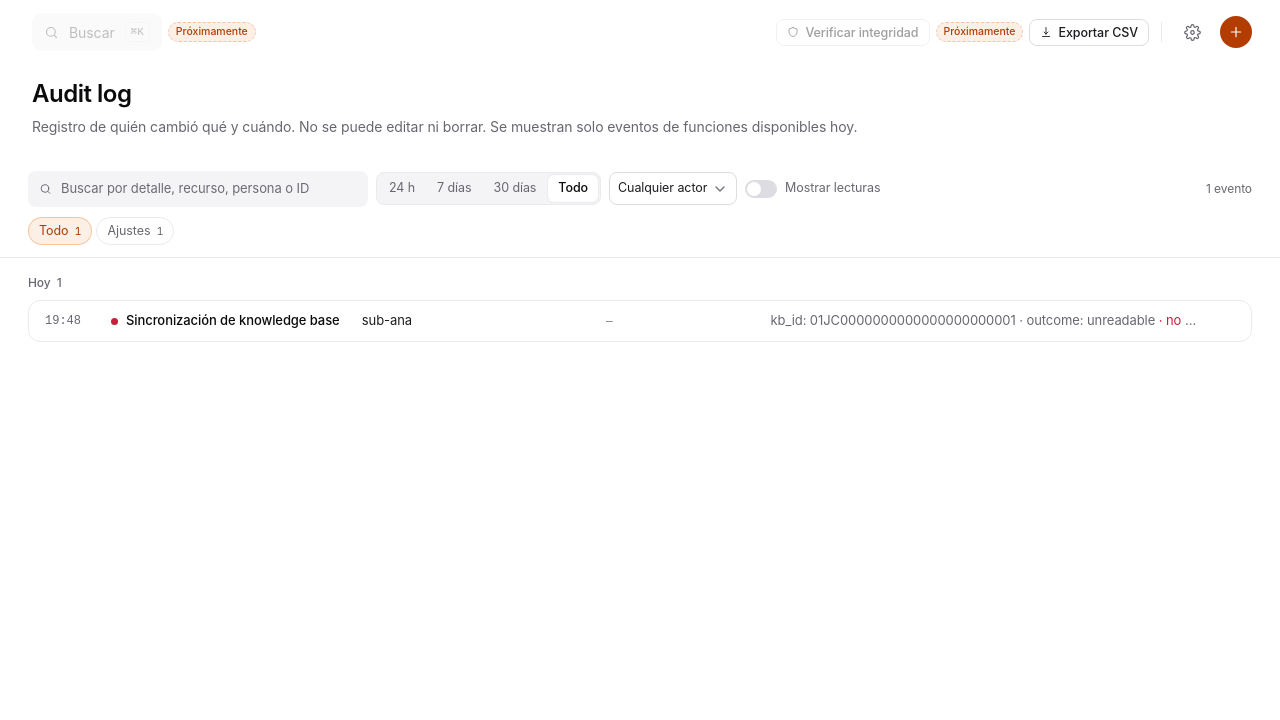
Test: AdminAuditPage › names a knowledge base synchronization that did not apply, why, and where to go
What coordinates should you click on to do the following:
click the text "Sincronización de knowledge base"
I would click on:
 (229, 321)
Its box is left=111, top=311, right=348, bottom=331.
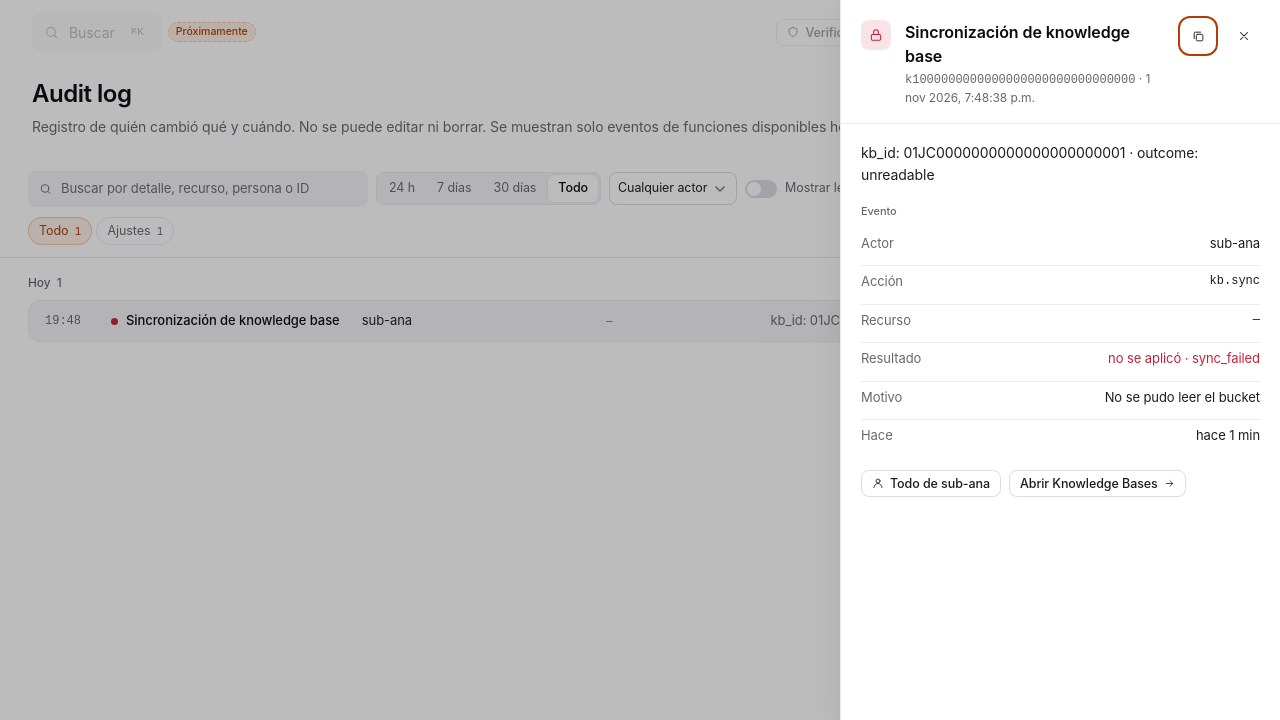
Result: the text "No se pudo leer el bucket" is shown at left=1105, top=388, right=1260, bottom=407
Result: the button "Abrir Knowledge Bases" is shown at left=1009, top=470, right=1186, bottom=497
